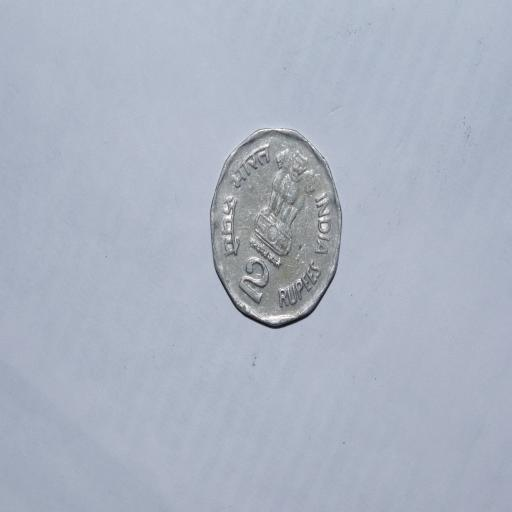rupee2: (206, 124, 344, 330)
